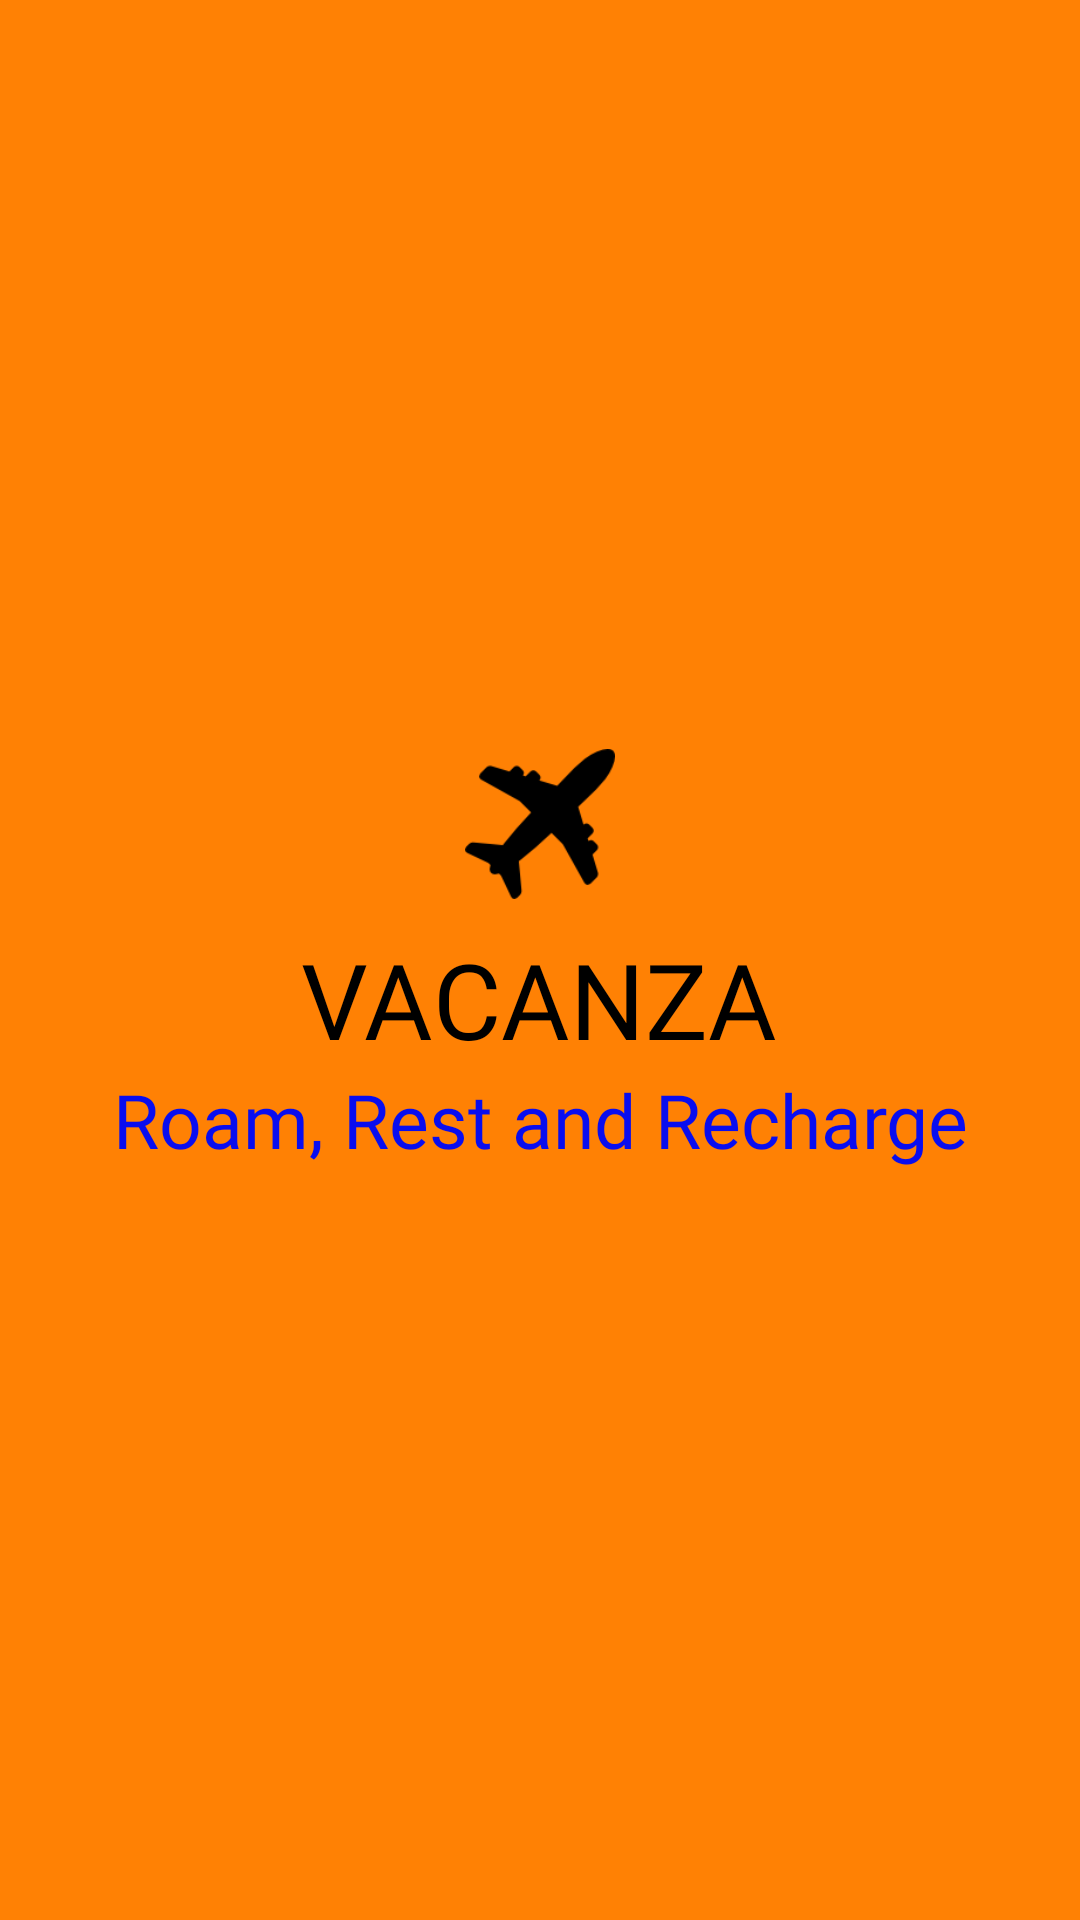

Point at icon controls on the screen. Image size 1080x1920, points as point (x, y).
airplane: point (540, 824)
